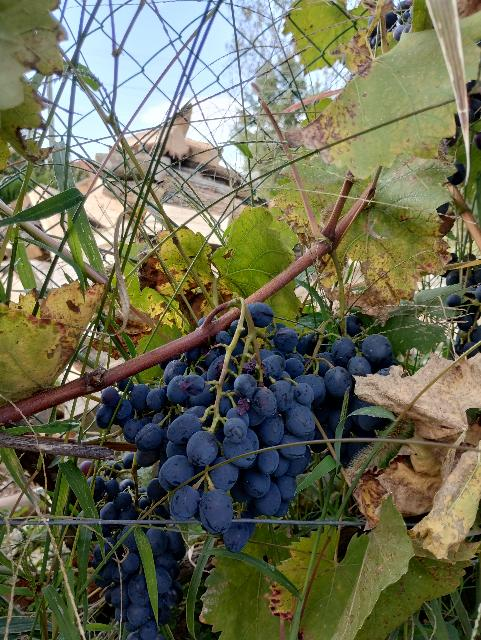grapes: (95, 302, 326, 551)
